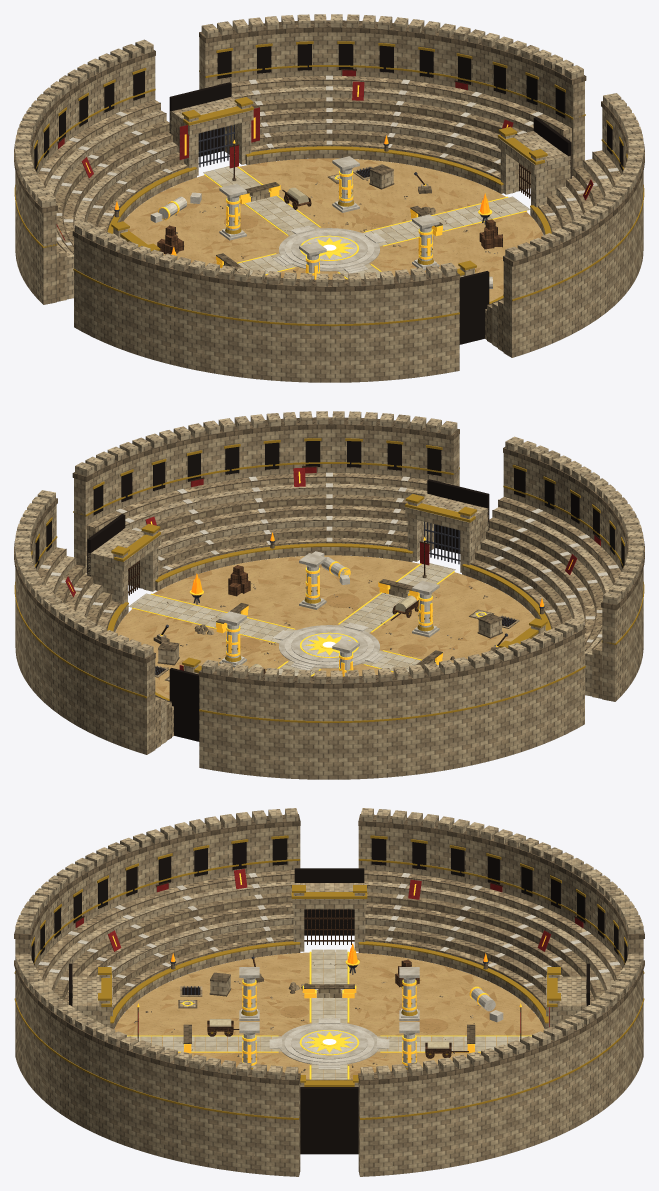
Rendered from colosseum.glb.
3 renders of one model, top to bottom at view 1: azimuth 30°, elevation 25°; view 2: azimuth 150°, elevation 25°; view 3: azimuth 270°, elevation 25°, orthographic.
Visible parts, largest first — view 1: Shell, Floor_Sand, Gates, Props, Floor_Paving, Dais, Banners; view 2: Shell, Floor_Sand, Gates, Props, Floor_Paving, Dais, Banners; view 3: Shell, Floor_Sand, Gates, Props, Floor_Paving, Dais, Banners.
Part boxes in pixels (x1,y1,x2,y2): Shell: (14, 14, 644, 382); Floor_Sand: (123, 158, 543, 301); Gates: (111, 82, 571, 344); Props: (114, 140, 502, 288); Floor_Paving: (203, 166, 530, 279); Dais: (272, 225, 386, 273); Banners: (56, 69, 593, 240); Shell: (14, 411, 644, 779); Floor_Sand: (115, 555, 535, 698); Gates: (87, 479, 547, 741); Props: (153, 537, 544, 681); Floor_Paving: (128, 563, 455, 676); Dais: (272, 622, 386, 670); Banners: (65, 466, 601, 670); Shell: (14, 808, 644, 1176); Floor_Sand: (114, 952, 544, 1079); Gates: (69, 868, 589, 1154); Props: (134, 956, 521, 1080); Floor_Paving: (127, 949, 531, 1079); Dais: (269, 1018, 389, 1069); Banners: (75, 869, 583, 1033).
Size of what is drawn, in the model's own units: 86.79 by 15.8 by 86.79.
23 materials, 16 textured.
